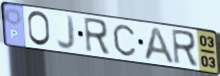A: (142, 26, 177, 66)
C: (112, 23, 138, 58)
J: (55, 13, 77, 52)
O: (26, 10, 52, 48)
R: (170, 28, 200, 69), (82, 16, 112, 57)
